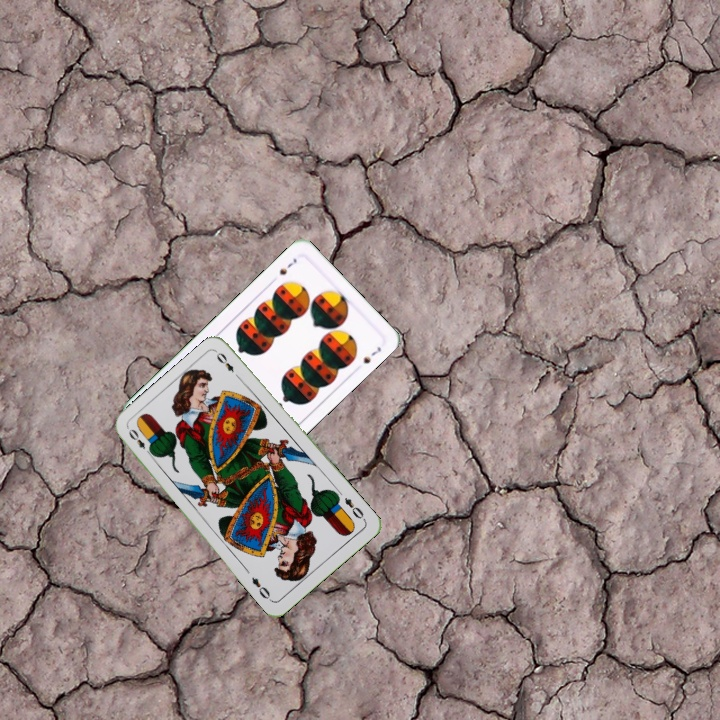EO: (124, 425, 155, 459), (340, 493, 368, 524)
S7: (275, 254, 299, 277)
